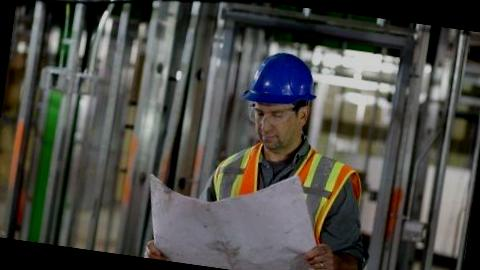helmet: (242, 46, 326, 112)
person: (199, 44, 383, 270)
